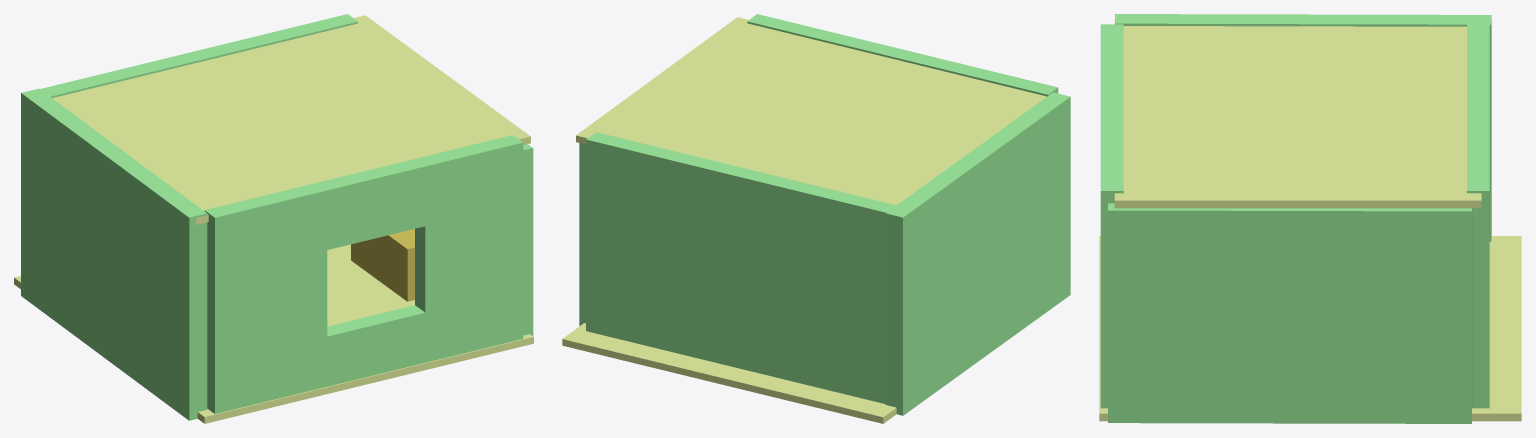
File: room.glb
The picture shows the model from 3 angles, left to right: view 1: azimuth 30°, elevation 25°; view 2: azimuth 150°, elevation 25°; view 3: azimuth 270°, elevation 25°; orthographic projection. The views are drawn at different scales.
Parts seen in each view (by area): view 1: Box002, Box006, Box004, Box005, Box001, Box007, Box003; view 2: Box001, Box006, Box004, Box005, Box002, Box003; view 3: Box003, Box006, Box001, Box005, Box002, Box004.
Boxes of the visible parts, bbox=[...] form: Box002: bbox=[204, 135, 523, 413]; Box006: bbox=[52, 15, 530, 224]; Box004: bbox=[21, 88, 207, 420]; Box005: bbox=[14, 244, 533, 423]; Box001: bbox=[40, 14, 357, 97]; Box007: bbox=[351, 229, 414, 301]; Box003: bbox=[523, 144, 533, 335]; Box001: bbox=[586, 132, 896, 403]; Box006: bbox=[576, 17, 1046, 205]; Box004: bbox=[885, 92, 1070, 415]; Box005: bbox=[562, 323, 896, 423]; Box002: bbox=[747, 14, 1058, 96]; Box003: bbox=[579, 143, 585, 325]; Box003: bbox=[1108, 203, 1472, 423]; Box006: bbox=[1114, 20, 1481, 208]; Box001: bbox=[1467, 24, 1489, 408]; Box005: bbox=[1099, 236, 1521, 421]; Box002: bbox=[1100, 24, 1123, 408]; Box004: bbox=[1115, 14, 1491, 241].
Bounding box in the file's own units: 2.37 × 1.34 × 2.29.
